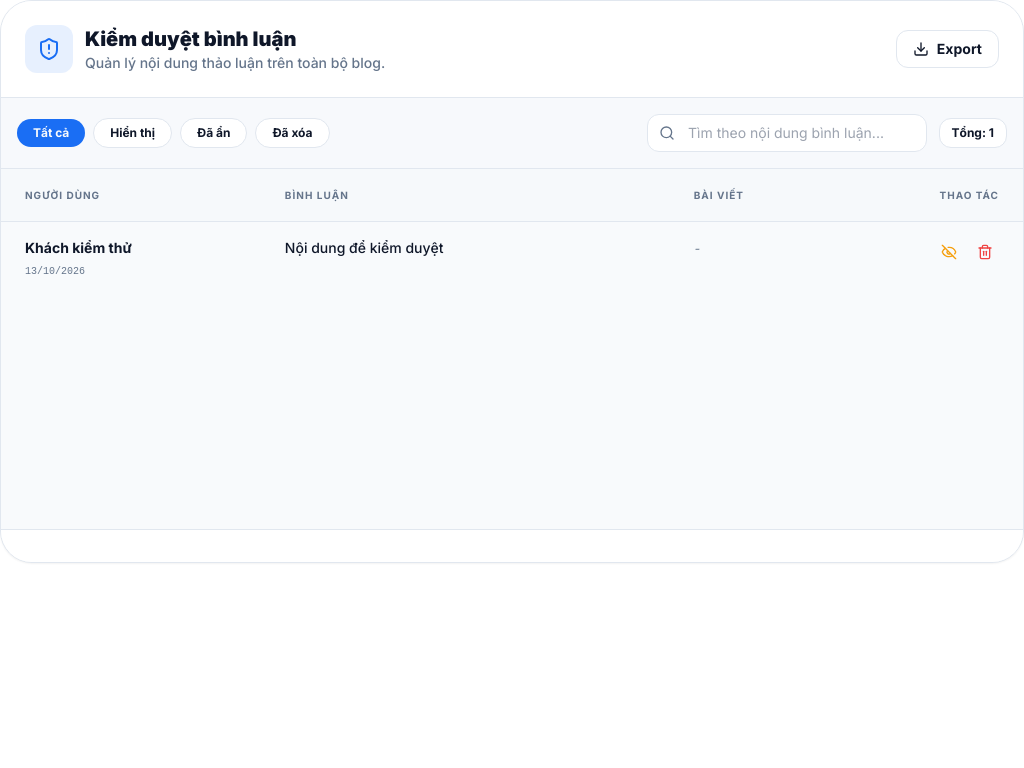
comment deletion › keeps failed deletion open with an inline error and lets the operator retry
Click the button titled "Xóa" at (985, 252), box [971,238,999,266]
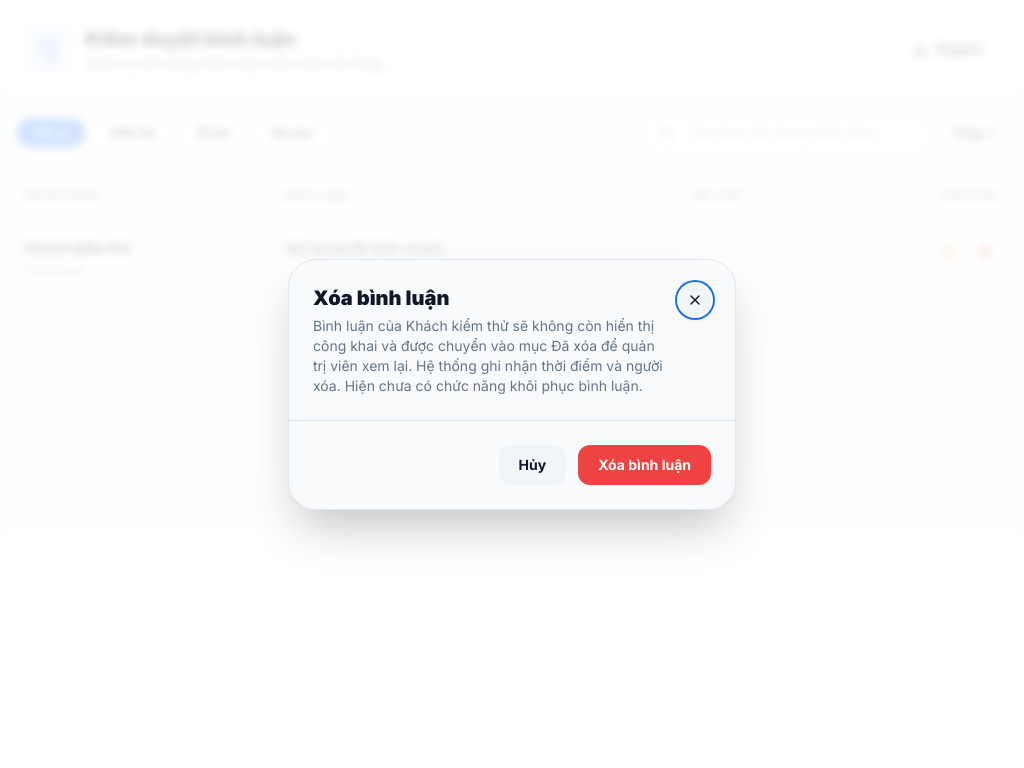
Click the button "Xóa bình luận" at (645, 464), box [578,444,711,484]
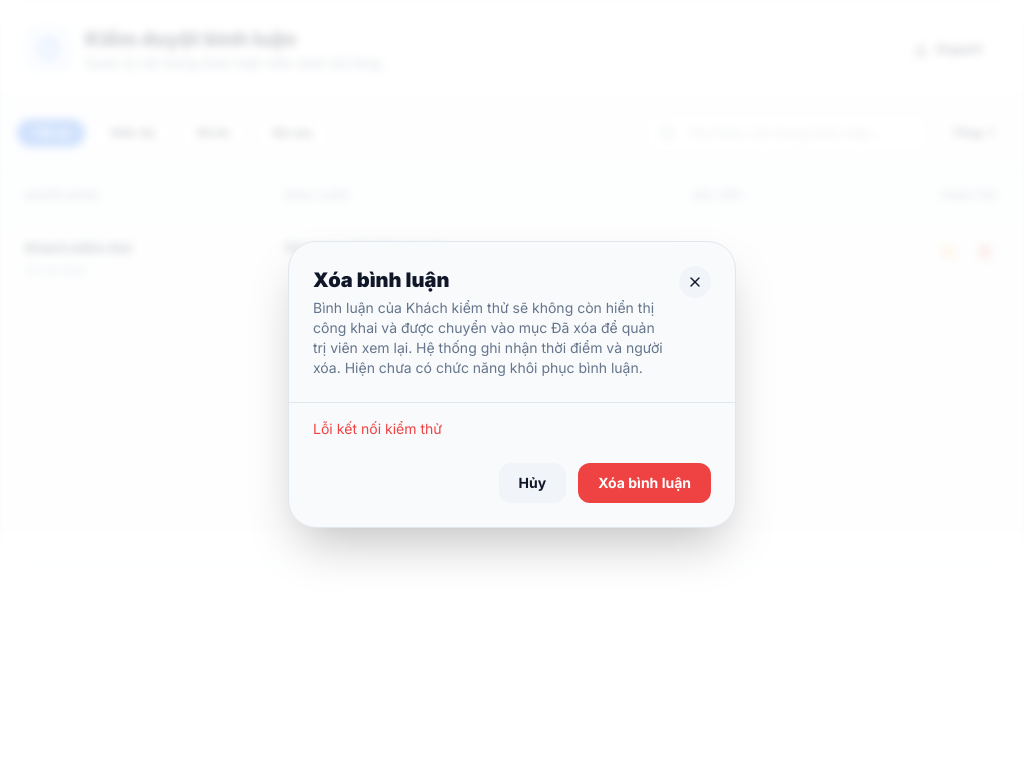
Expected: the message reads "Lỗi kết nối kiểm thử", [313,420,442,436]
Click the button "Xóa bình luận" at (645, 482), box [578,462,711,502]
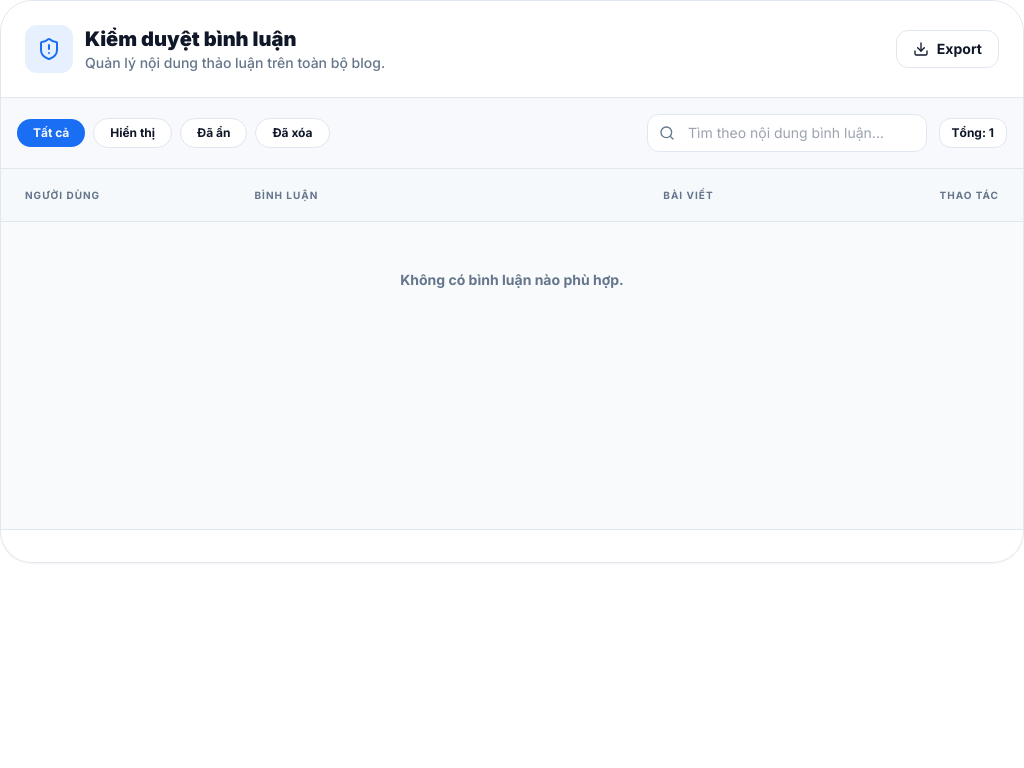
Expected: the dialog is gone
Click the button "Đã xóa" at (293, 133), box [256,118,330,148]
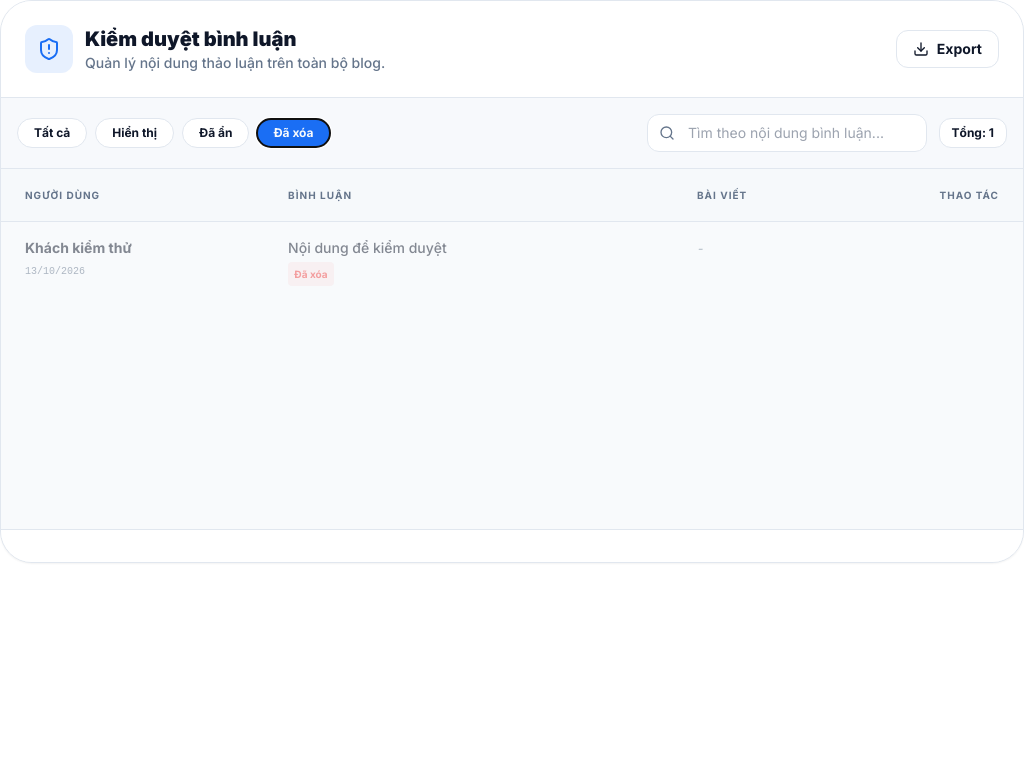
Expected: the text "Nội dung để kiểm duyệt" is shown, [288,239,447,256]
